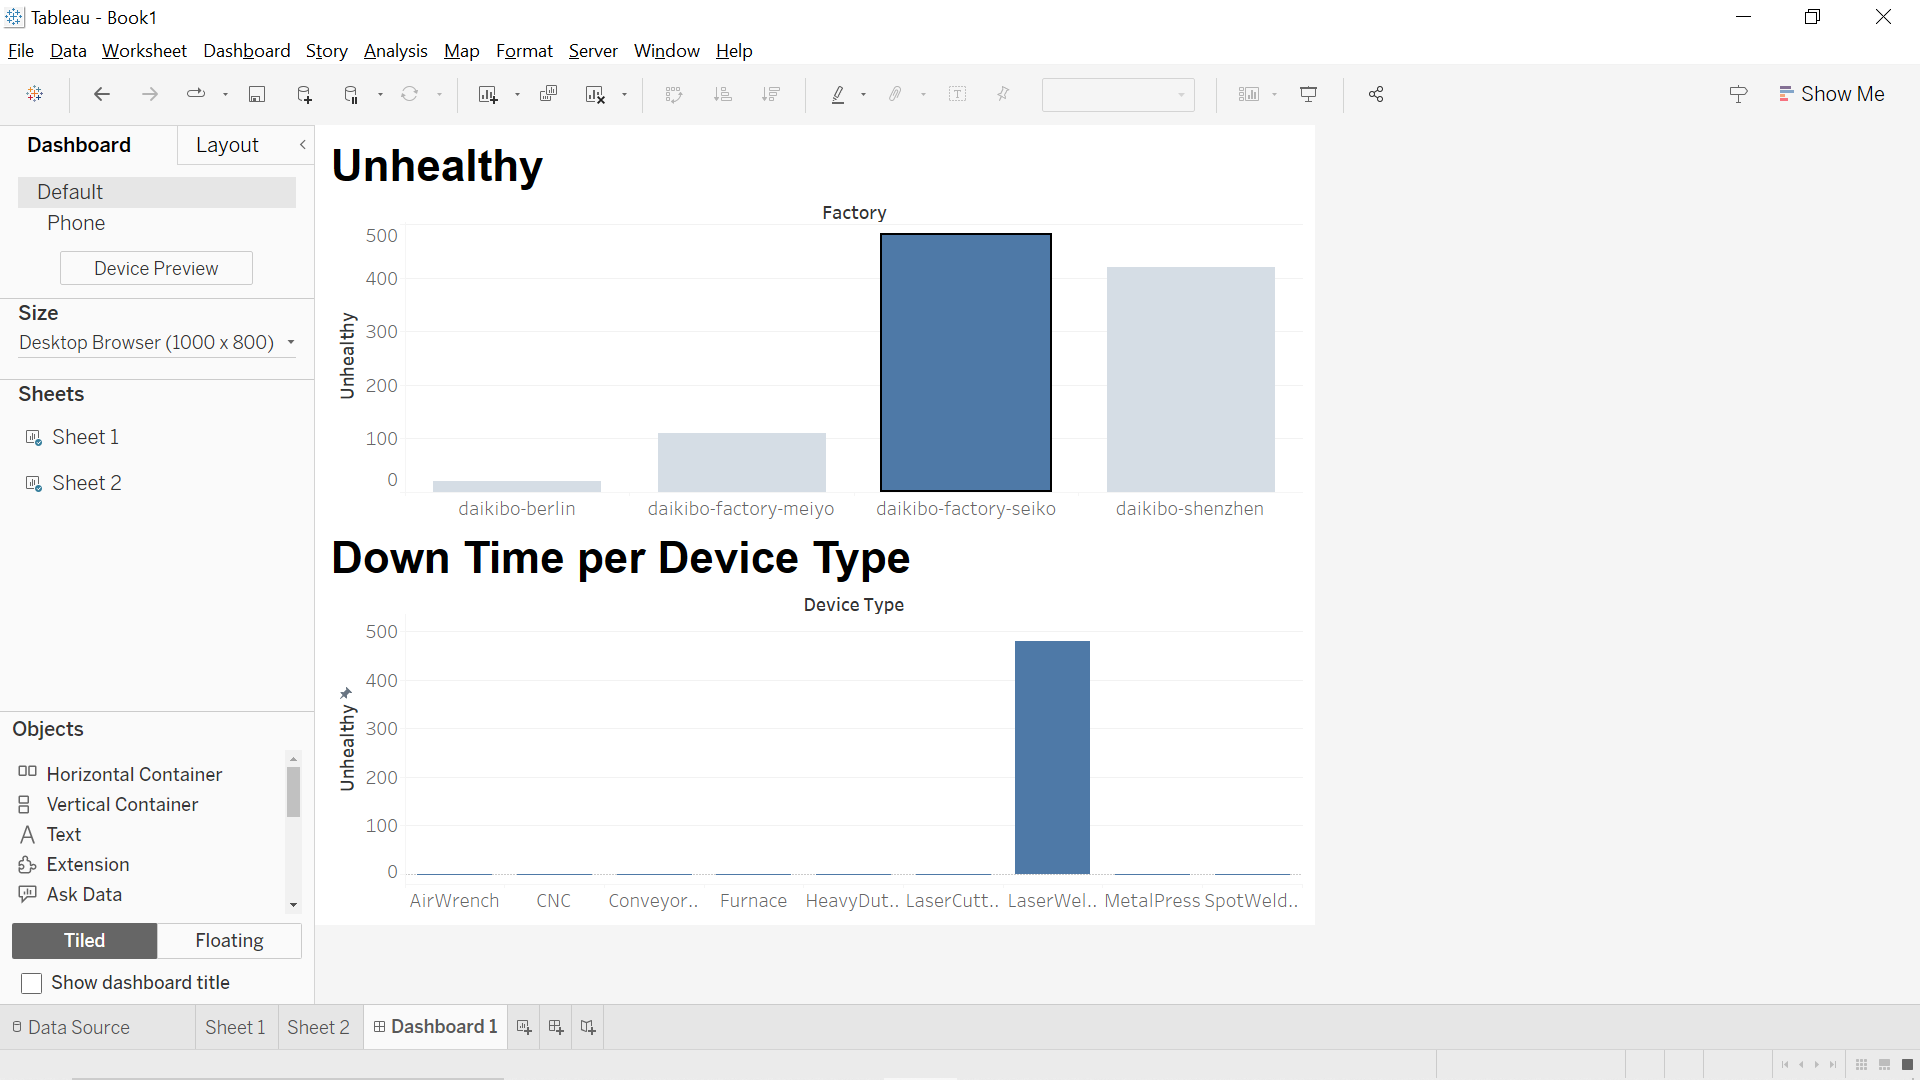

This screenshot's page, from the dashboard's own definition file:
{"tool":"tableau","page":{"name":"Dashboard 1","canvas":[1000,800],"ordinal":0},"visuals":[{"type":"worksheet","title":"Sheet 1","mark":"Automatic","rows":["Calculation_882142620250144768"],"cols":["factory"],"box":[8,8,984,392]},{"type":"worksheet","title":"Sheet 2","mark":"Automatic","rows":["Calculation_882142620250144768"],"cols":["deviceType"],"box":[8,400,984,392]}]}

Visuals, with their boxes on the page's 1000x800 design canvas (x1, y1, x2, y2). These are canvas units, not pixel positions in the 1920x1080 screenshot, which may show the page scaled, cropped or inside an application window:
"Sheet 1" worksheet: select_region(8, 8, 992, 400)
"Sheet 2" worksheet: select_region(8, 400, 992, 792)
